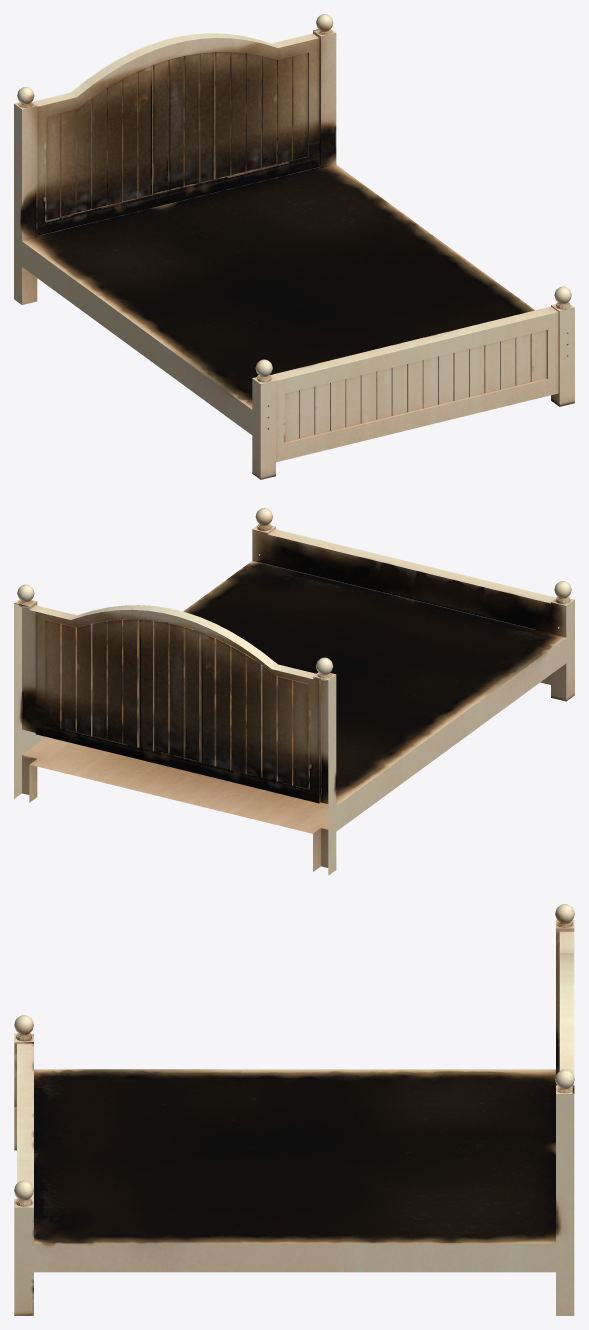
Rendered from chuang01.11.obj.
3 views of the same model, one above another, from view 1: azimuth 30°, elevation 25°; view 2: azimuth 150°, elevation 25°; view 3: azimuth 270°, elevation 25° (orthographic). The views are drawn at different scales.
Visible parts, largest first — view 1: 091; view 2: 091; view 3: 091.
Boxes of the visible parts, x1,y1,x2,y2 form: 091: (14,14,574,479); 091: (14,508,574,875); 091: (14,904,574,1315).
Size of the model in its own units: 150 by 102 by 204.
